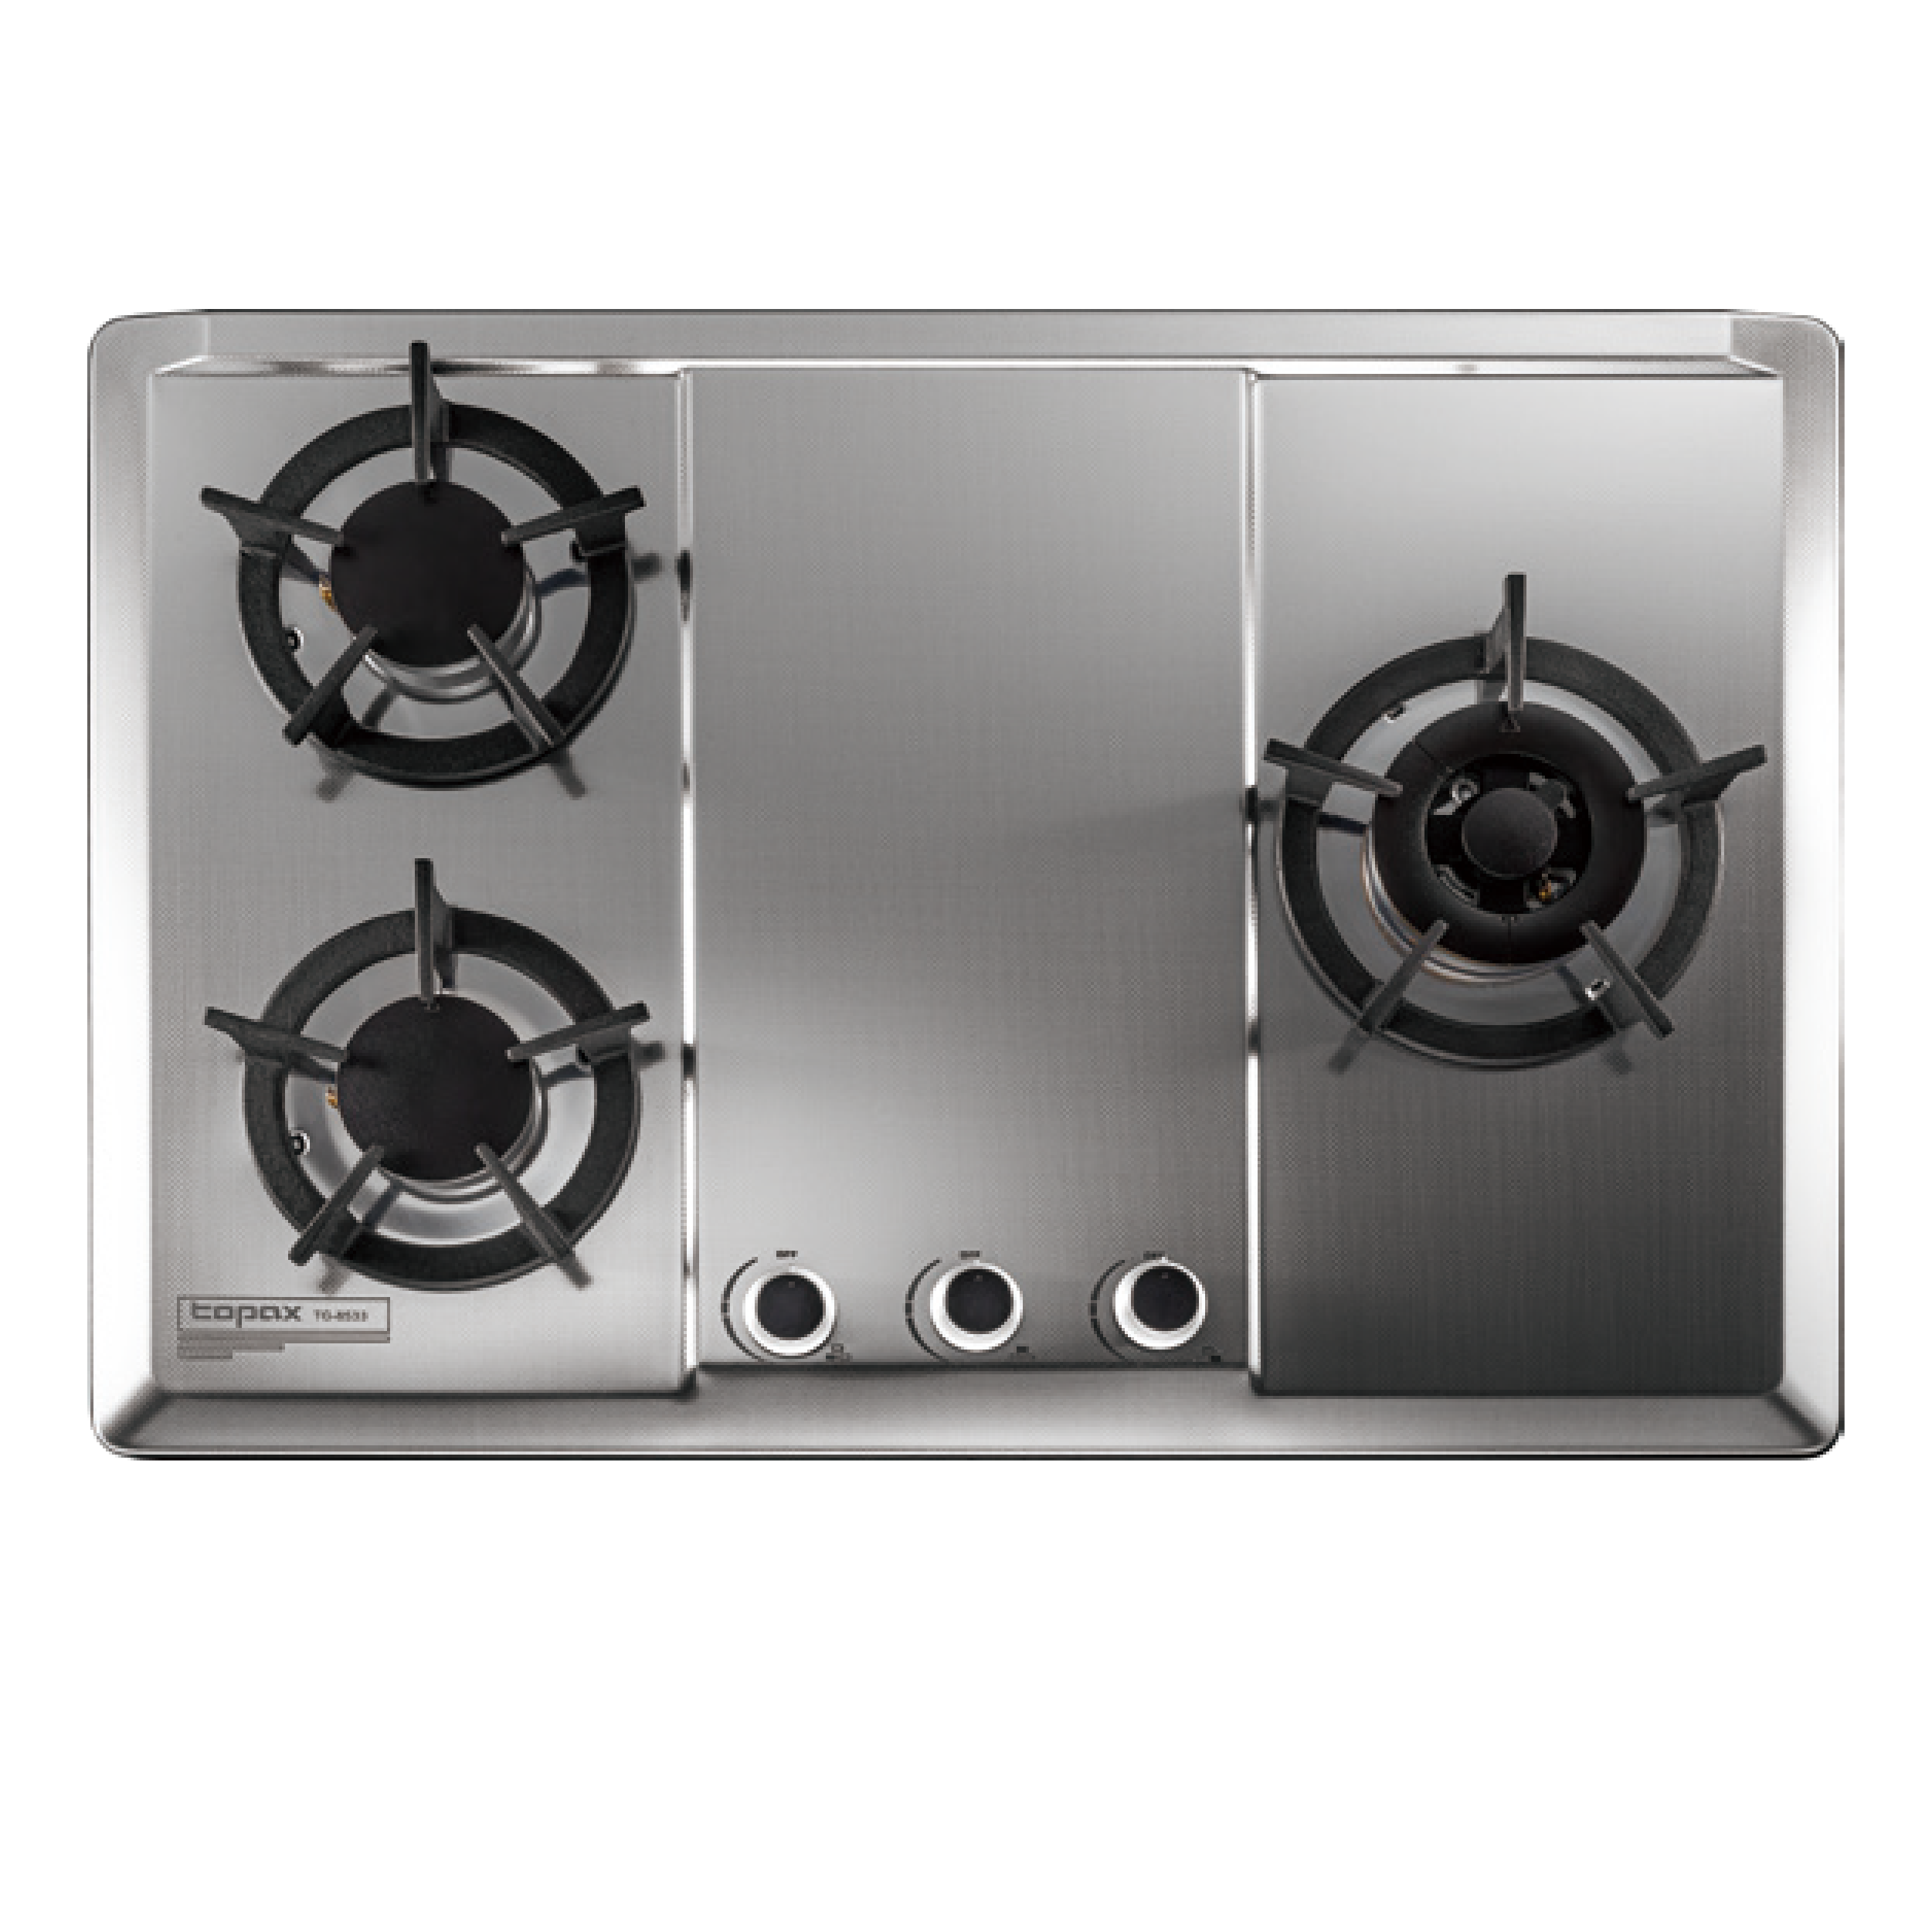gasoven: (73, 295, 1872, 1474)
